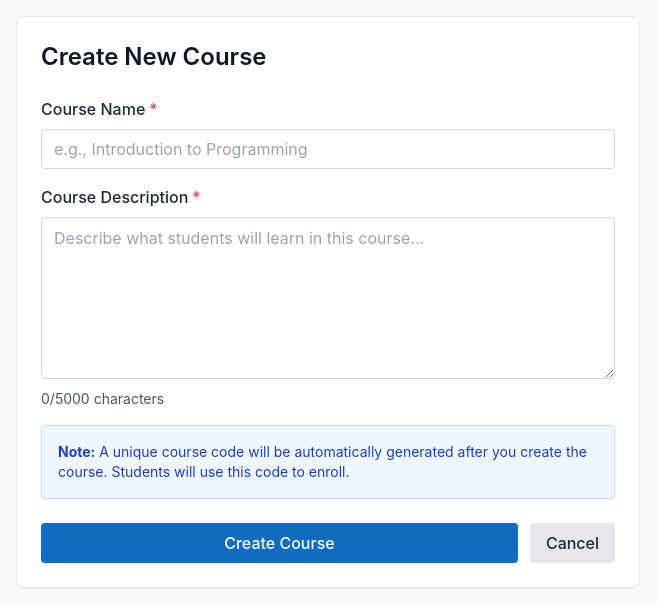
Test: CreateCourse › Form Submission › should display success message with course code after creation
In the field labelled "Course Name*": [328, 149] box [41,129,615,169], type "Introduction to Programming"
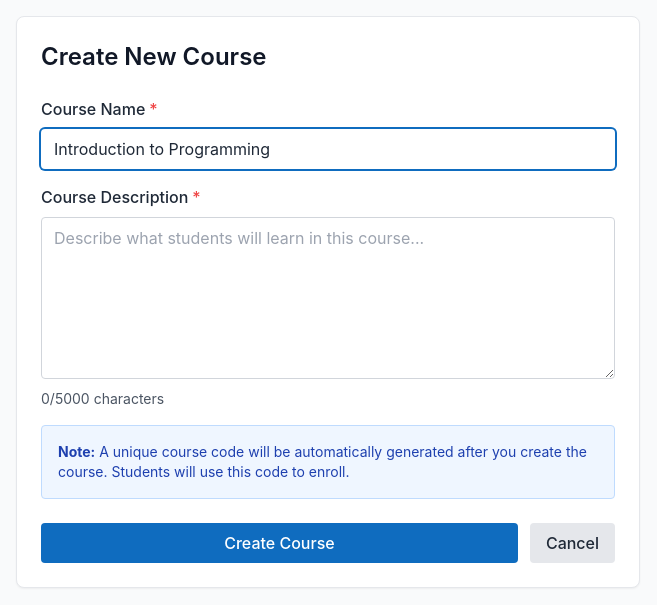
In the text box labelled "Course Description*": [328, 298] box [41,217,615,379], type "Learn programming basics"
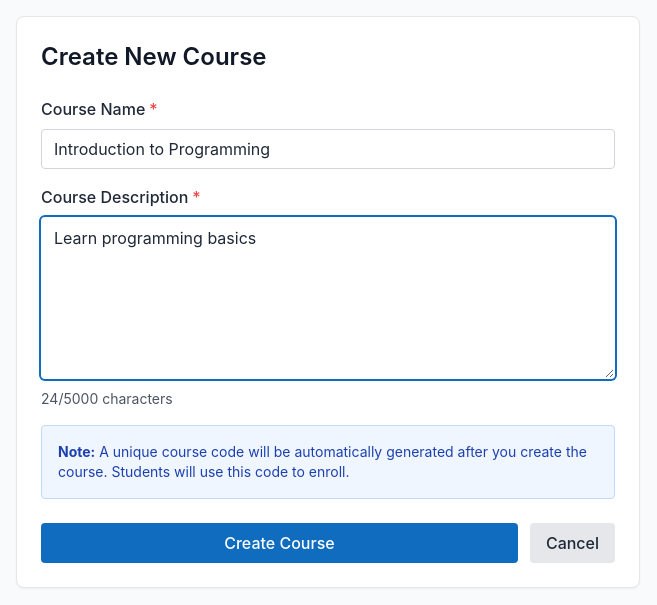
Click the button "Create Course": [279, 543] box [41,523,518,563]
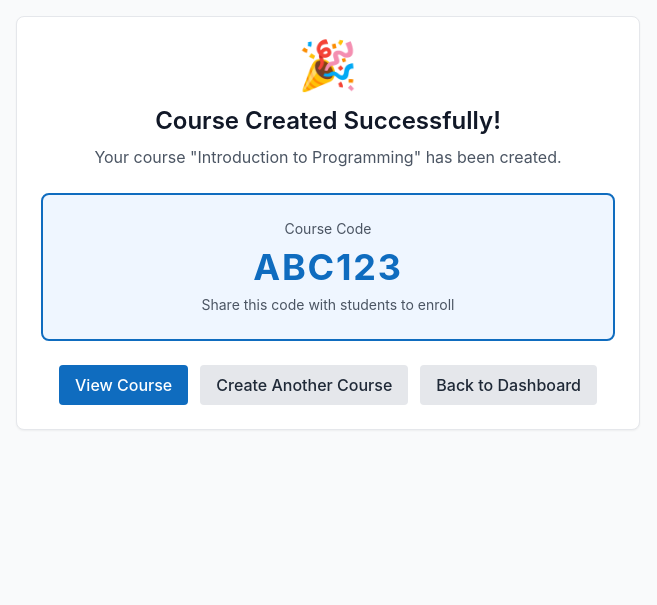
Expected: the heading "Course Created Successfully!" is shown, [155,106,501,135]
Expected: the text "ABC123" is shown, [253,245,403,289]
Expected: the text "Share this code with students to enroll" is shown, [202,296,454,313]
